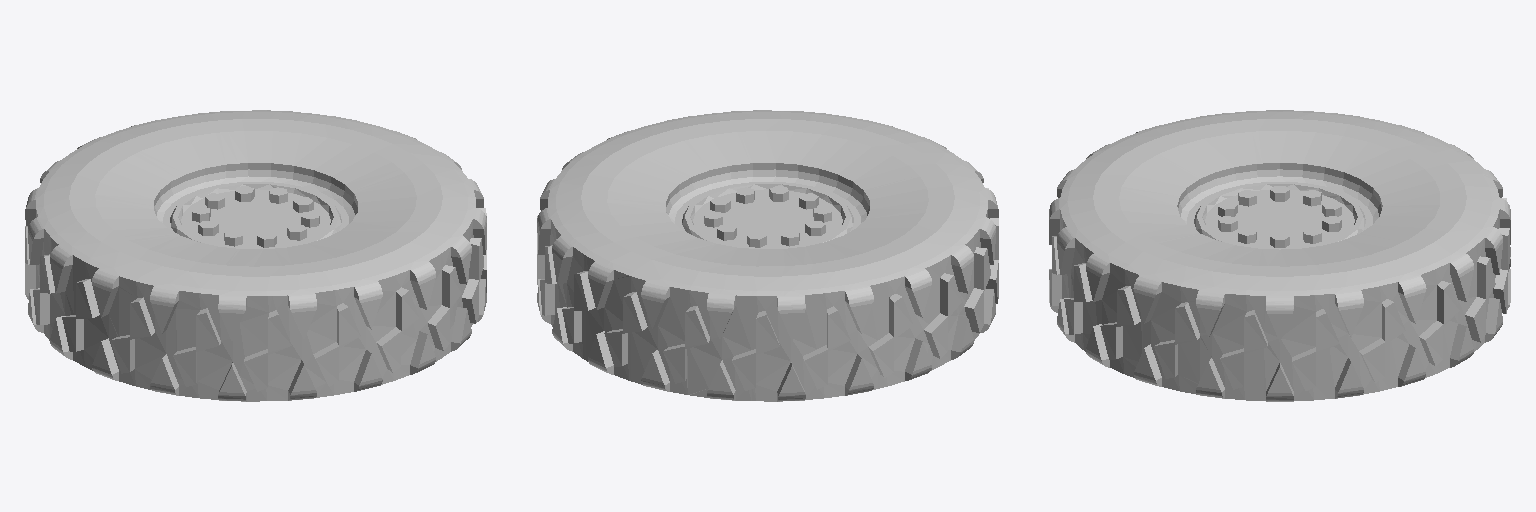
File: man_wheel_left.obj
3 views of the same model, side by side, from view 1: azimuth 30°, elevation 25°; view 2: azimuth 150°, elevation 25°; view 3: azimuth 270°, elevation 25° (orthographic).
Visible parts, largest first — view 1: test.000; view 2: test.000; view 3: test.000.
Boxes of the visible parts, box(x1,y1,x2,y2) form: test.000: box(25, 110, 486, 401); test.000: box(537, 110, 998, 401); test.000: box(1049, 110, 1510, 401).
Size of the model in its own units: 1.26 by 0.3504 by 1.26.